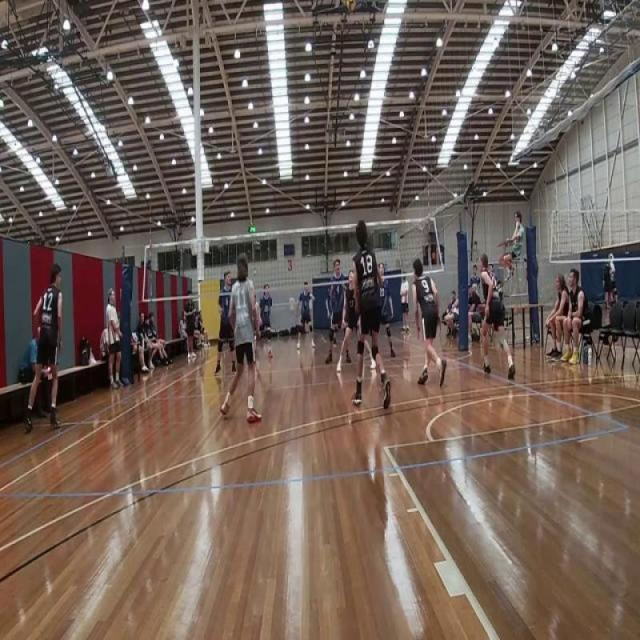volleyball: (344, 0, 356, 13)
